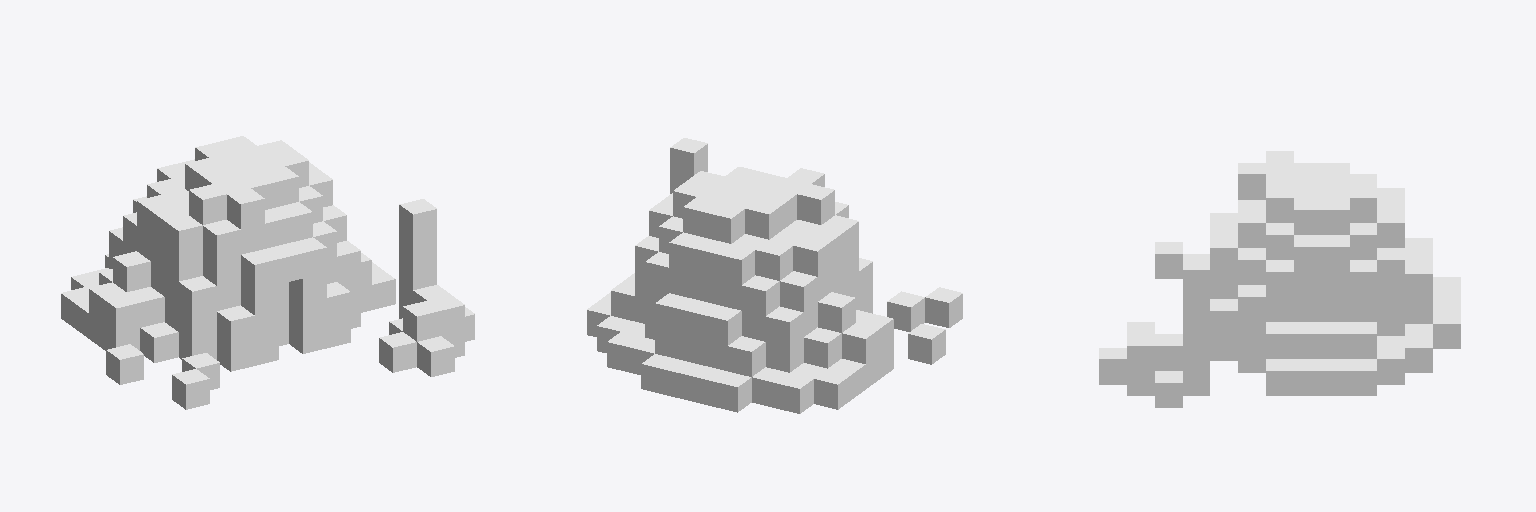
Rendered from map_dungeon.obj.
3 renders of one model, left to right at view 1: azimuth 30°, elevation 25°; view 2: azimuth 150°, elevation 25°; view 3: azimuth 270°, elevation 25°, orthographic.
Bounding box in the file's own units: 1.62 × 0.75 × 1.62.